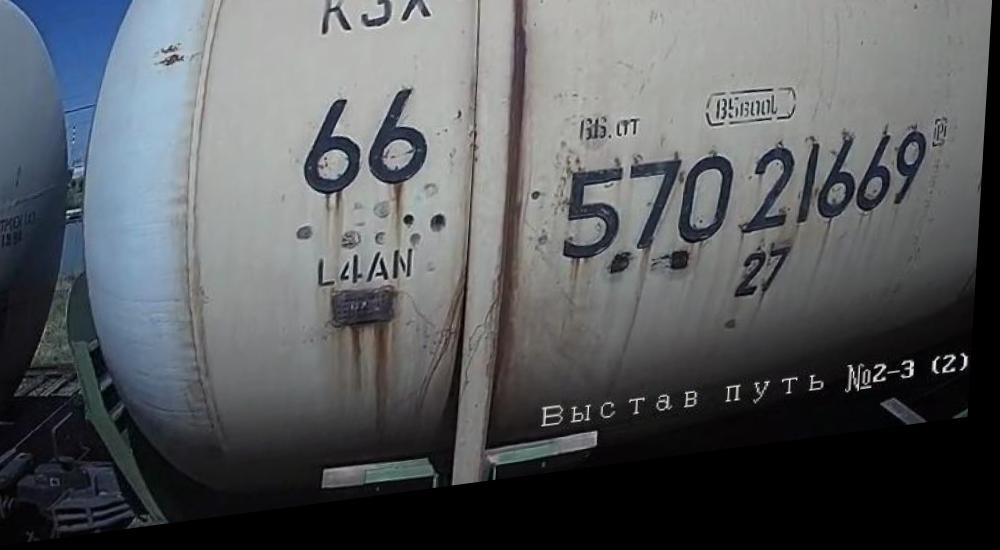Wagon-number: (554, 143, 937, 283)
